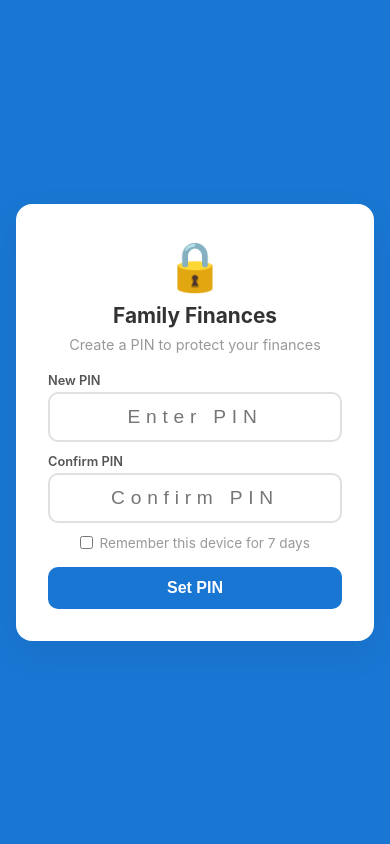
Test case: PinGate › set PIN form › shows error for PIN shorter than 4 chars
This screenshot has width=390, height=844.
Step 1. Type "12" into the password field with placeholder "Enter PIN" → (195, 416), box left=48, top=392, right=342, bottom=442
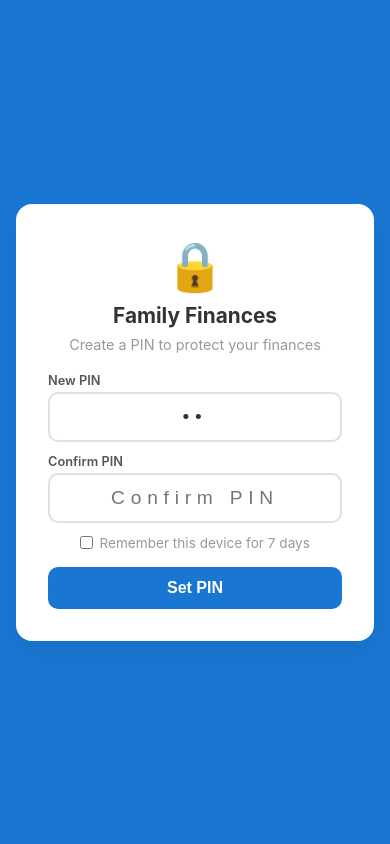
Step 2. Type "12" into the password field with placeholder "Confirm PIN" → (195, 498), box left=48, top=472, right=342, bottom=522
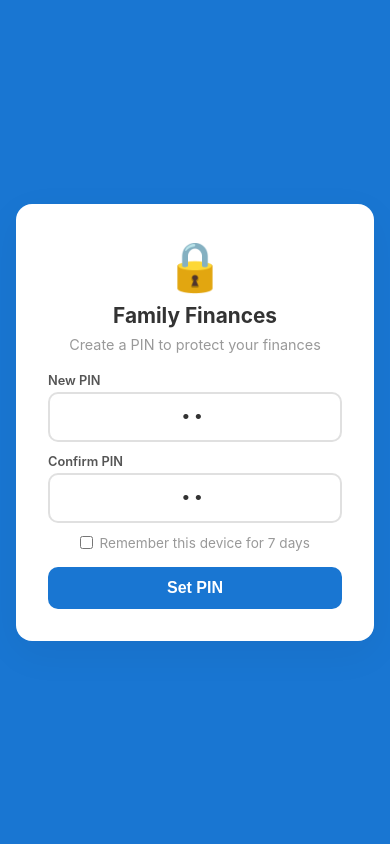
Step 3. Submit the form, box left=48, top=336, right=342, bottom=608
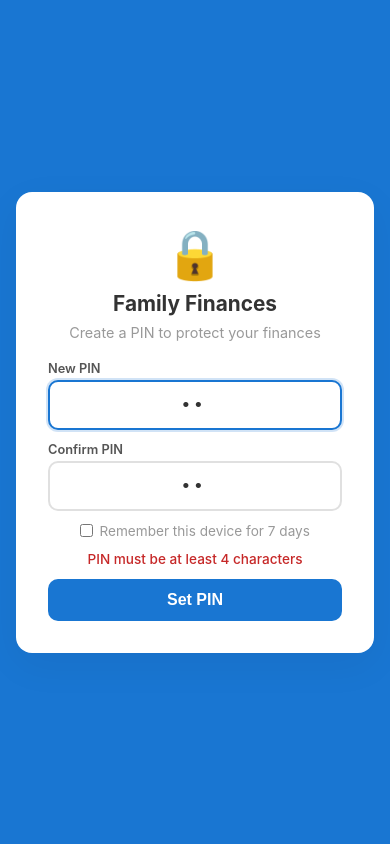
Check: the text "PIN must be at least 4 characters" is shown, box left=88, top=550, right=303, bottom=566
